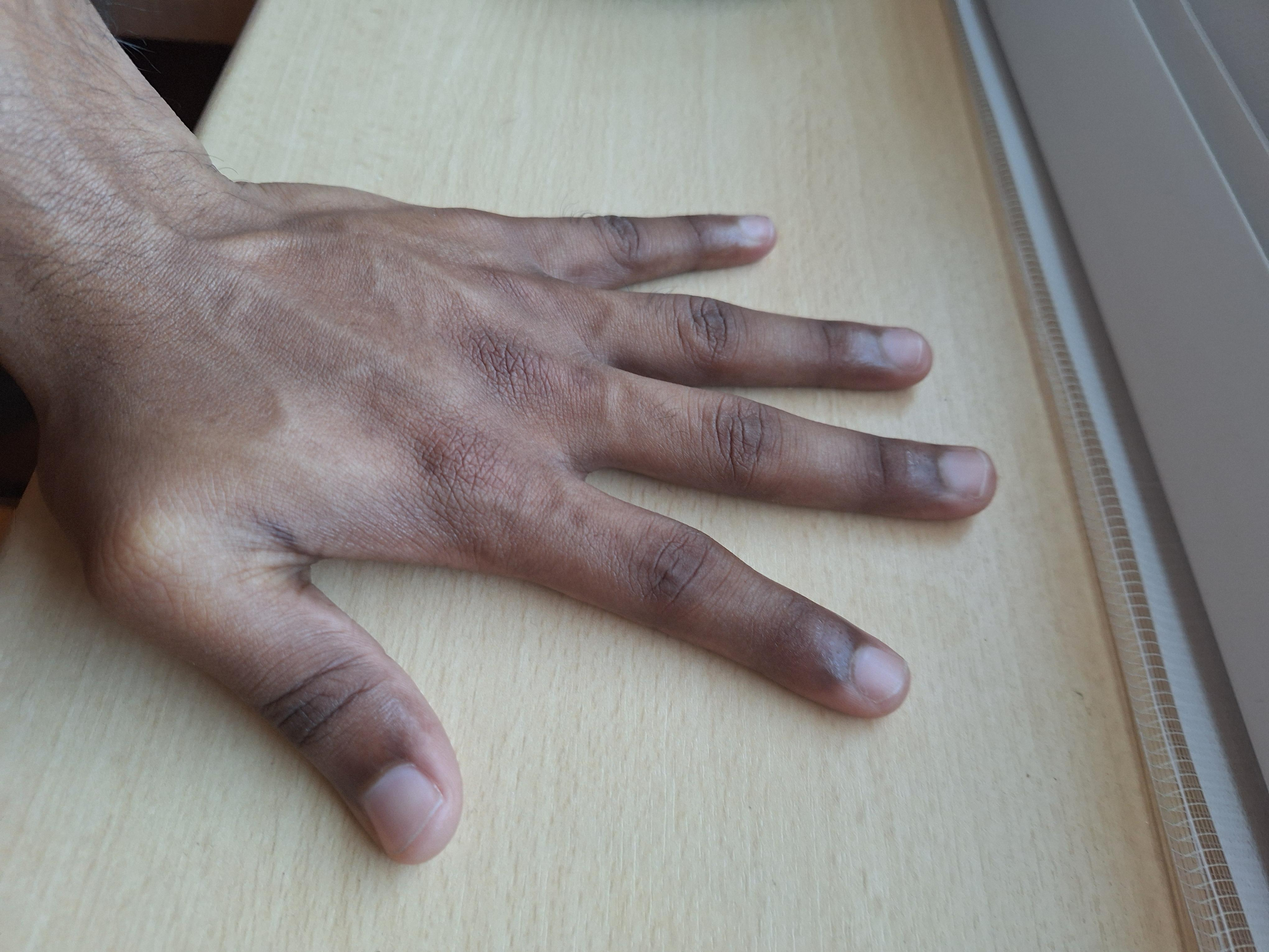Fingernail: (362, 762, 444, 857), (856, 646, 907, 703), (939, 450, 989, 499), (880, 330, 921, 371), (743, 216, 771, 242)
